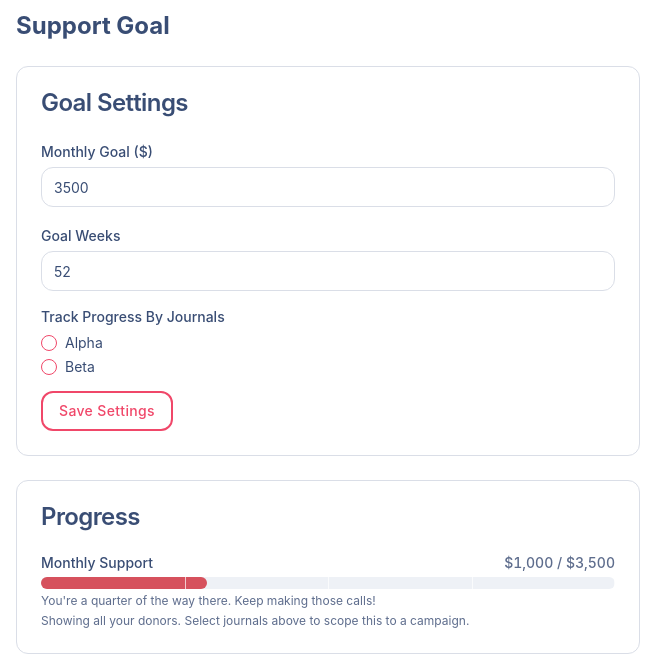
Test: GoalPage — auto-populate Monthly Goal from selected journals › reflects the summed total back into the Monthly Goal input
Type "9999" into the number field labelled "Monthly Goal ($)".
click(328, 187); type("9999")  # box [41,167,615,207]
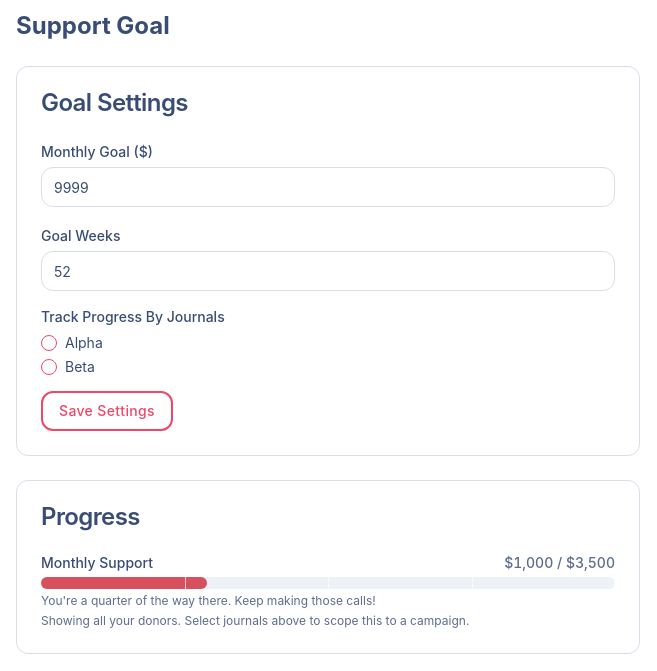
Click the checkbox named "Alpha" next to "Alpha".
click(49, 343)  # box [41,335,57,351]
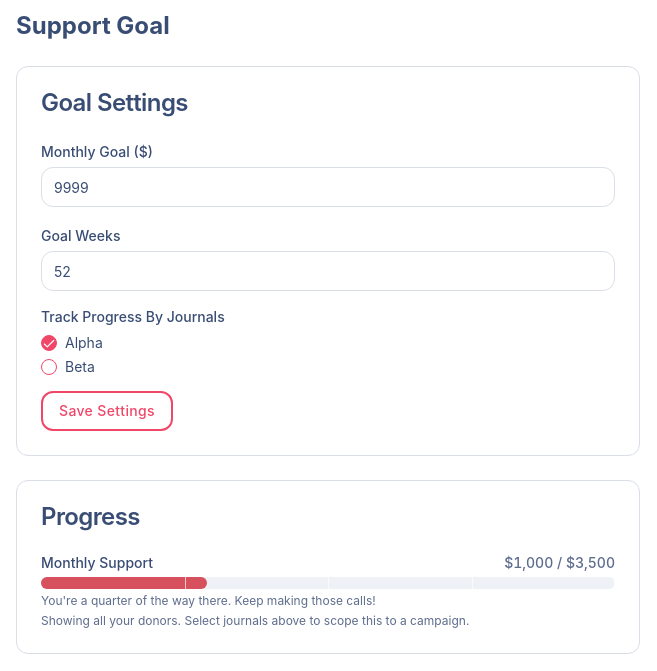
Click the checkbox named "Beta" next to "Beta".
click(49, 367)  # box [41,359,57,375]
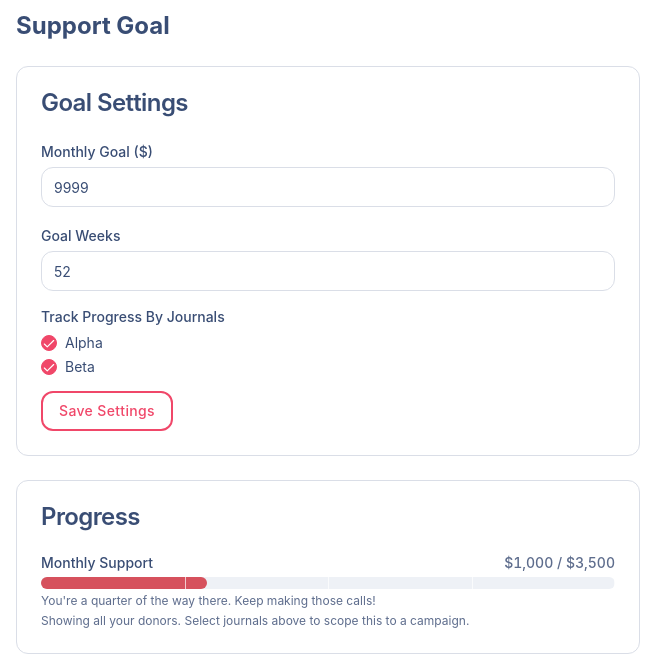
Click the button "Save Settings".
click(107, 411)  # box [41,391,173,431]
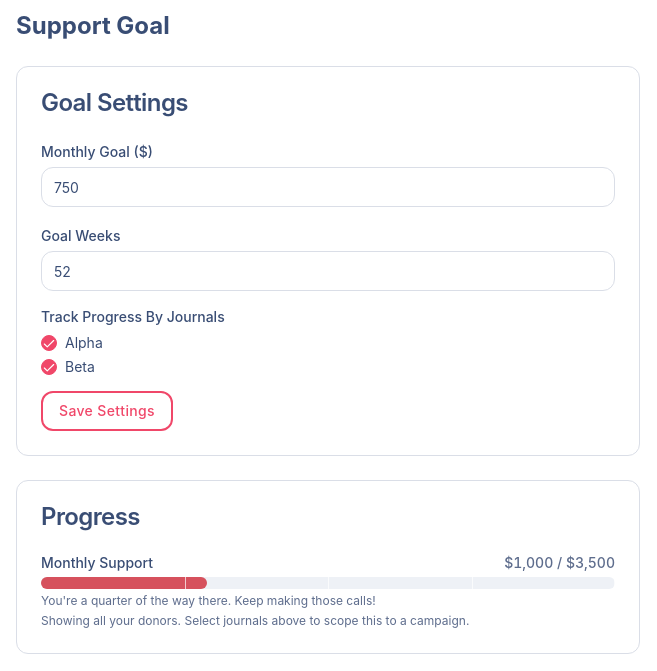
Result: the number field labelled "Monthly Goal ($)" holds "750" at [41,167,615,207]
